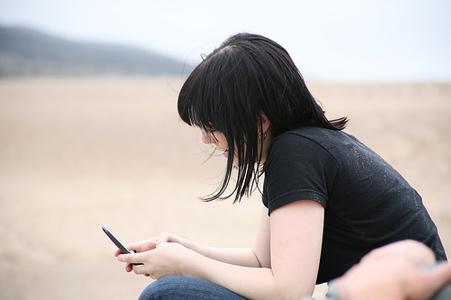person: (114, 35, 450, 300)
